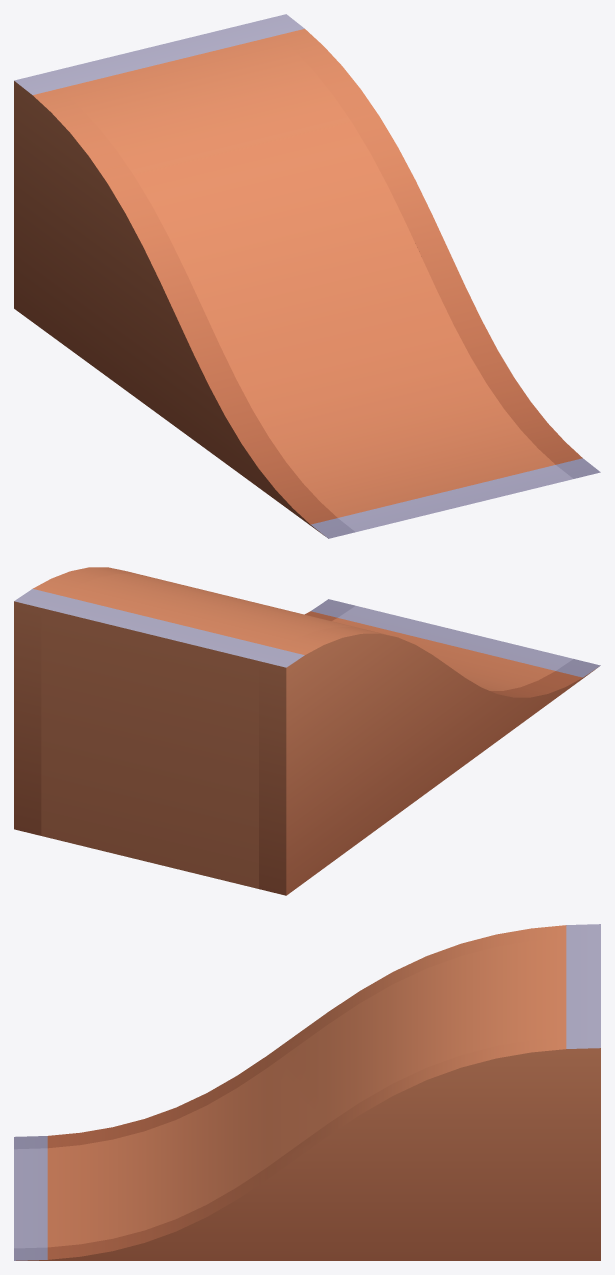
Rendered from slope-smooth.glb.
3 renders of one model, top to bottom at view 1: azimuth 30°, elevation 25°; view 2: azimuth 150°, elevation 25°; view 3: azimuth 270°, elevation 25°, orthographic. The views are drawn at different scales.
Parts seen in each view (by area): view 1: slope-smooth; view 2: slope-smooth; view 3: slope-smooth.
Part boxes in pixels (<box>): slope-smooth: <box>14,14,600,538</box>; slope-smooth: <box>14,567,600,895</box>; slope-smooth: <box>14,924,600,1260</box>.
Bounding box in the file's own units: 0.9998 × 0.7999 × 2.
1 material, 1 textured.
